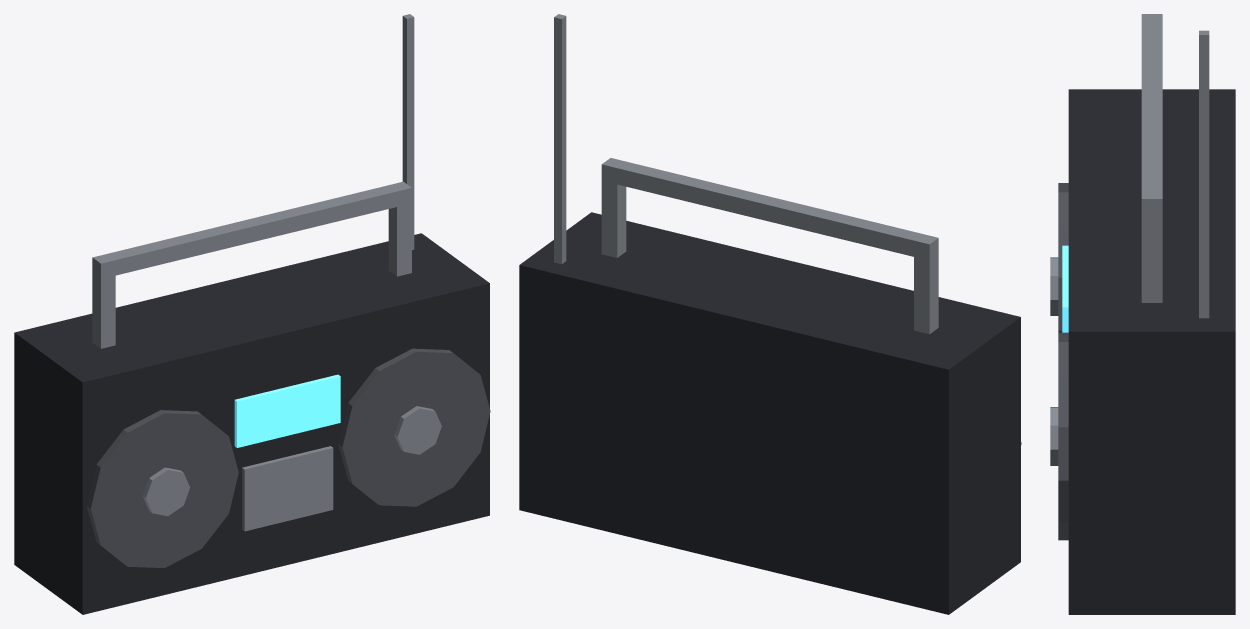
Rendered from bank_boombox.glb.
3 views of the same model, side by side, from view 1: azimuth 30°, elevation 25°; view 2: azimuth 150°, elevation 25°; view 3: azimuth 270°, elevation 25° (orthographic). The views are drawn at different scales.
Parts seen in each view (by area): view 1: body_boombox, speakers_boombox_grille, handle_drill_steel, body_drill_steel, body_boombox_glow, speakers_drill_steel, antenna_drill_steel; view 2: body_boombox, handle_drill_steel, antenna_drill_steel; view 3: body_boombox, handle_drill_steel, speakers_boombox_grille, antenna_drill_steel, speakers_drill_steel, body_boombox_glow.
Boxes of the visible parts, left/top/right/bottom form: body_boombox: left=14, top=233, right=489, bottom=614; speakers_boombox_grille: left=86, top=348, right=490, bottom=567; handle_drill_steel: left=92, top=181, right=411, bottom=348; body_drill_steel: left=242, top=446, right=333, bottom=531; body_boombox_glow: left=234, top=374, right=340, bottom=447; speakers_drill_steel: left=142, top=406, right=441, bottom=516; antenna_drill_steel: left=402, top=14, right=414, bottom=249; body_boombox: left=519, top=212, right=1020, bottom=614; handle_drill_steel: left=601, top=158, right=938, bottom=334; antenna_drill_steel: left=554, top=14, right=566, bottom=264; body_boombox: left=1068, top=89, right=1235, bottom=614; handle_drill_steel: left=1141, top=14, right=1162, bottom=302; speakers_boombox_grille: left=1058, top=183, right=1068, bottom=540; antenna_drill_steel: left=1199, top=30, right=1209, bottom=318; speakers_drill_steel: left=1050, top=257, right=1058, bottom=465; body_boombox_glow: left=1062, top=245, right=1068, bottom=332.
Size of the model in its own units: 0.55 by 0.6 by 0.1775.
